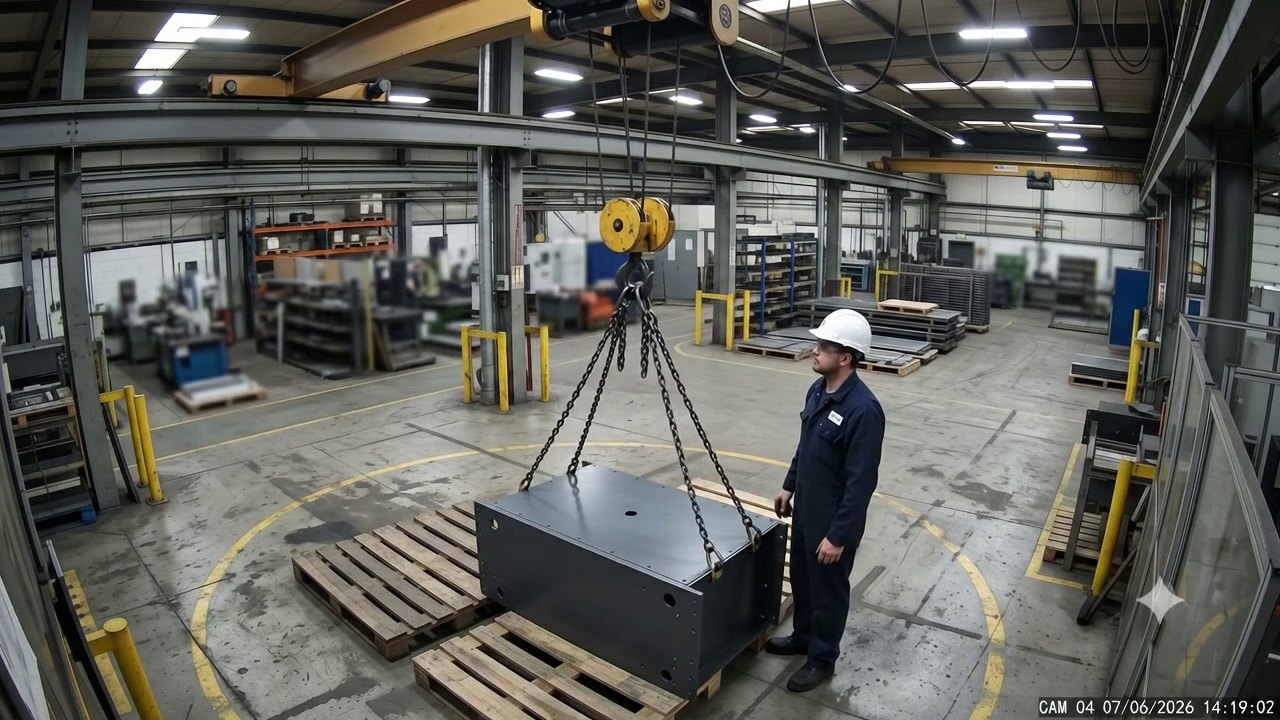person: (764, 308, 887, 697)
